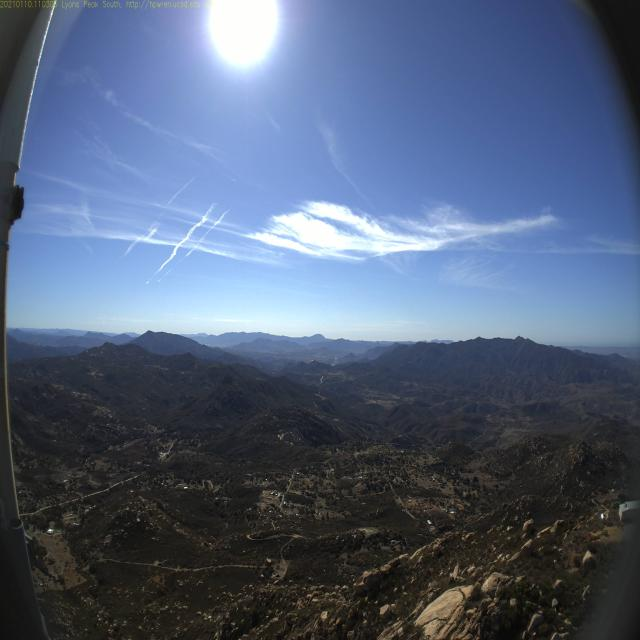smoke: (329, 353, 342, 369)
